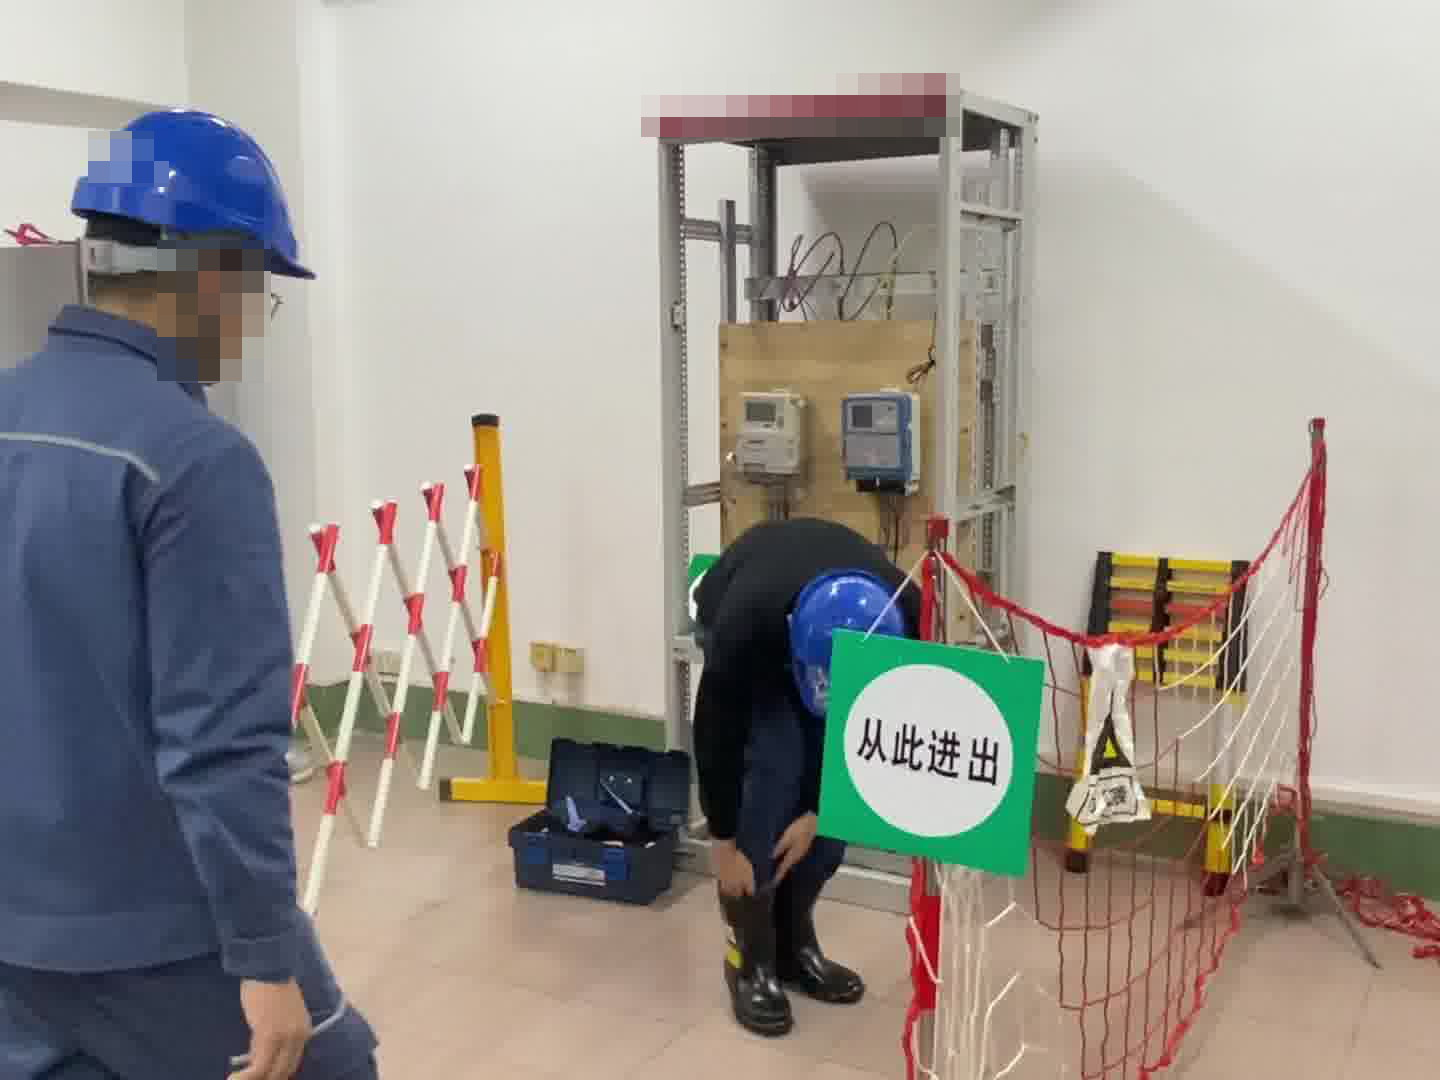downsuit: (2, 947, 320, 1080)
halt: (59, 110, 314, 383), (781, 577, 891, 680)
hand: (218, 979, 309, 1070), (780, 812, 818, 870), (709, 838, 753, 887)
inear: (165, 236, 243, 364)
intosign: (833, 633, 1048, 876)
person: (1, 107, 420, 1080), (676, 510, 914, 1019)
shoe: (714, 892, 779, 1025), (784, 898, 862, 1001)
upcloth: (689, 516, 914, 700)
upsuit: (1, 309, 307, 1010)
